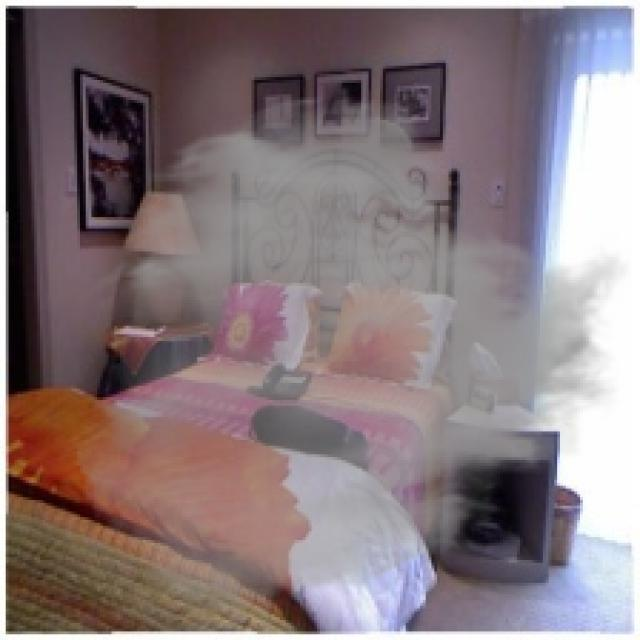Smoke: (71, 91, 632, 614)
